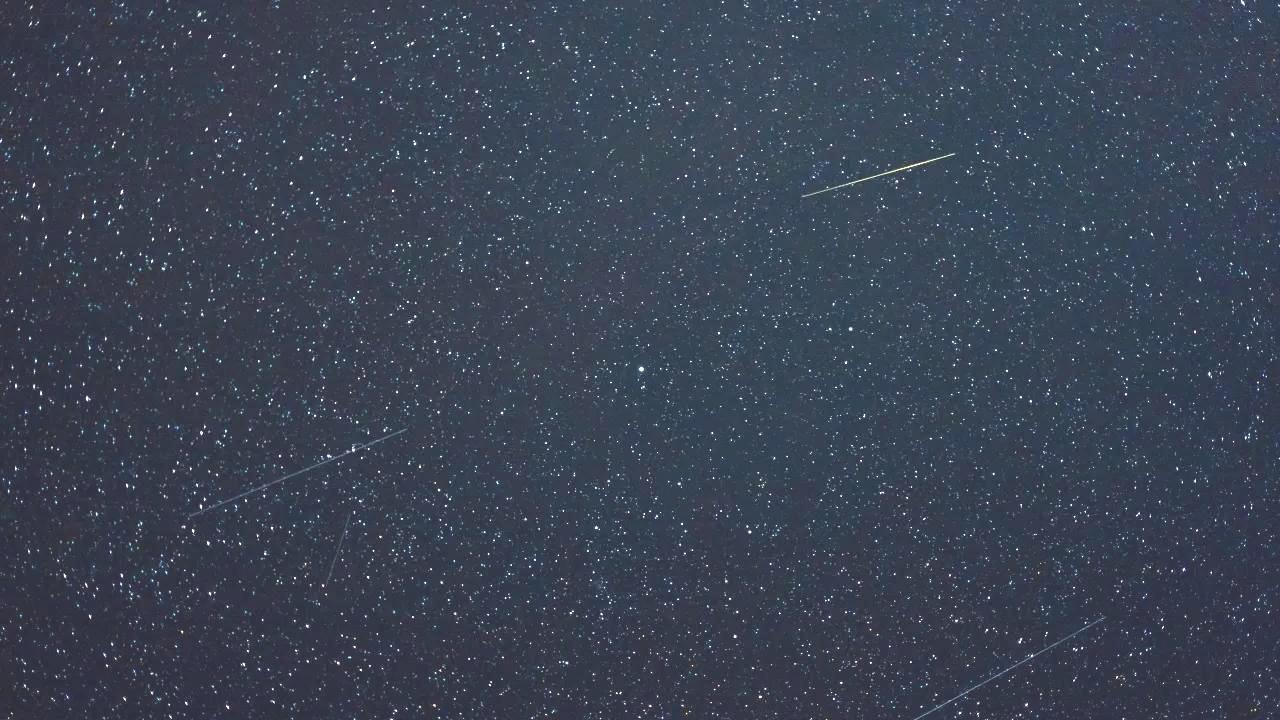meteorite: (888, 605, 1157, 720), (225, 425, 418, 504), (764, 142, 983, 205), (307, 493, 392, 582)
